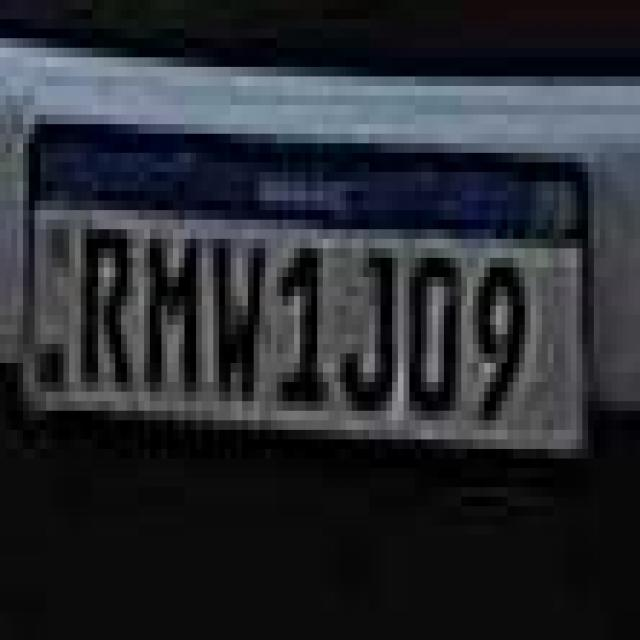0: (400, 252, 464, 422)
1: (274, 238, 338, 418)
9: (463, 250, 522, 419)
J: (342, 243, 404, 419)
M: (138, 212, 204, 401)
R: (79, 224, 138, 394)
W: (210, 217, 270, 408)
